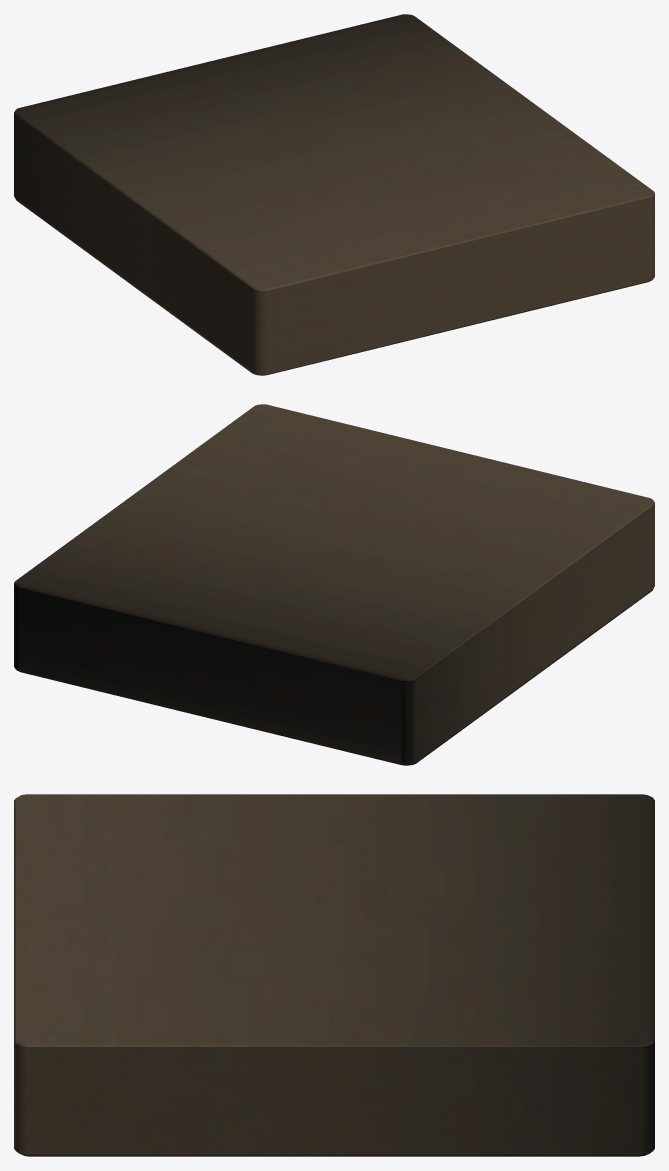
File: nt_2020_bookshelf_01_LOD0.obj
3 views of the same model, one above another, from view 1: azimuth 30°, elevation 25°; view 2: azimuth 150°, elevation 25°; view 3: azimuth 270°, elevation 25° (orthographic). The views are drawn at different scales.
Parts seen in each view (by area): view 1: mtl_nt_2020_bookshelf_01; view 2: mtl_nt_2020_bookshelf_01; view 3: mtl_nt_2020_bookshelf_01.
Boxes of the visible parts, bbox=[...] form: mtl_nt_2020_bookshelf_01: bbox=[14, 14, 654, 375]; mtl_nt_2020_bookshelf_01: bbox=[14, 404, 654, 765]; mtl_nt_2020_bookshelf_01: bbox=[14, 794, 654, 1156].
Bounding box in the file's own units: 201 × 41.5 × 216.
